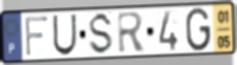4: (157, 9, 180, 53)
F: (24, 14, 50, 58)
G: (185, 6, 212, 53)
R: (116, 10, 147, 55)
S: (87, 11, 115, 57)
U: (51, 13, 78, 57)
